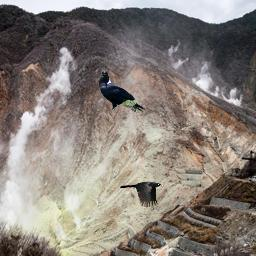Crow: (98, 70, 146, 113), (120, 181, 164, 207)
